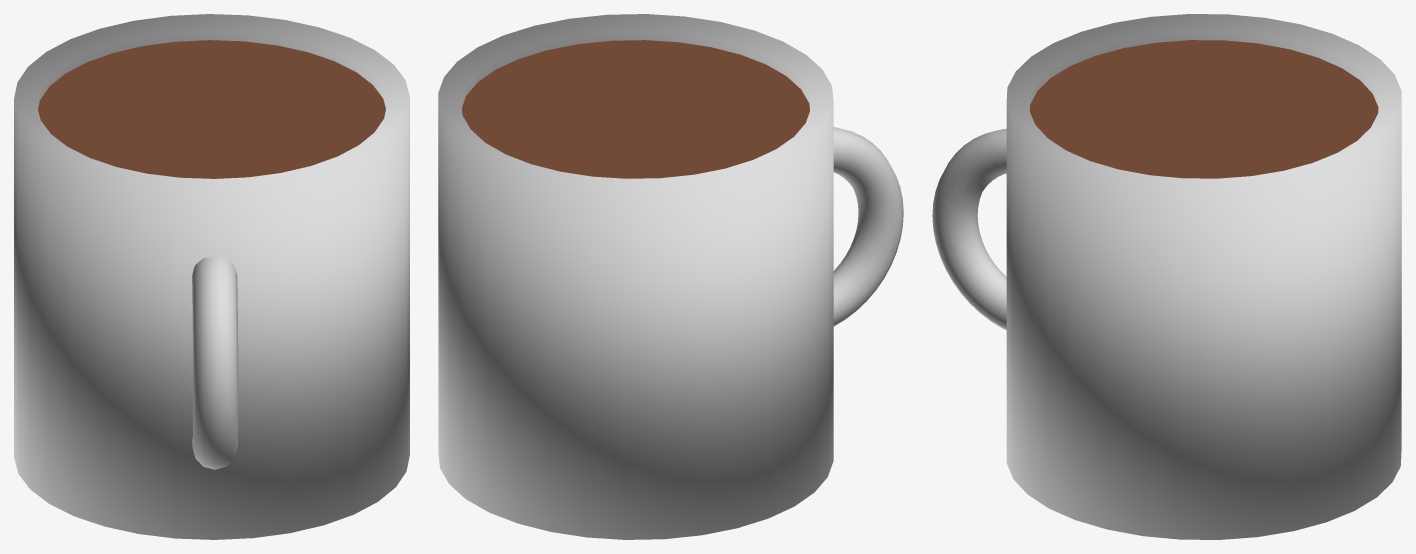
File: coffeemug.dae
3 renders of one model, left to right at view 1: azimuth 30°, elevation 25°; view 2: azimuth 150°, elevation 25°; view 3: azimuth 270°, elevation 25°, orthographic.
Visible parts, largest first — view 1: Cylinder_004, Circle; view 2: Cylinder_004, Circle; view 3: Cylinder_004, Circle.
Boxes of the visible parts, x1,y1,x2,y2 form: Cylinder_004: (14, 14, 409, 539); Circle: (38, 40, 385, 178); Cylinder_004: (438, 14, 903, 539); Circle: (462, 40, 809, 178); Cylinder_004: (932, 14, 1401, 539); Circle: (1029, 40, 1378, 178).
Size of the model in its own units: 0.5578 by 0.6626 by 0.5595.
